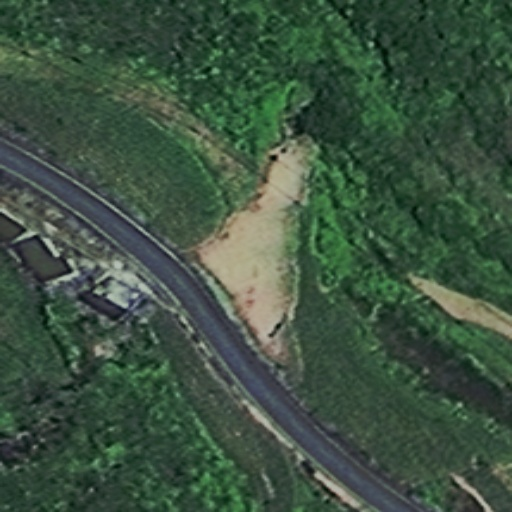landslide: (197, 139, 311, 333)
